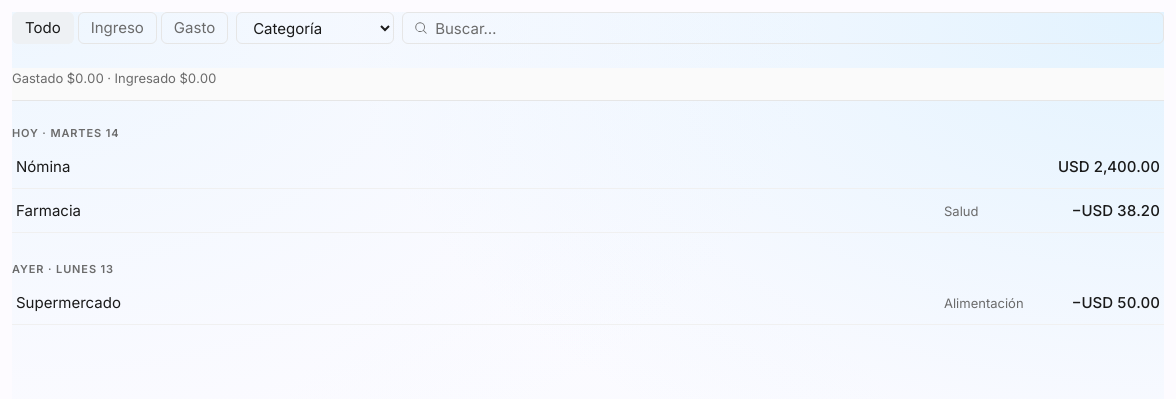
Test case: Historial — Checkpoint IV-D: navegación completa por teclado (roving tabindex) › Escape colapsa la fila expandida sobre la que está el foco
Step 1. Click the button "Farmacia Salud −USD 38.20" → coordinates (48, 210), box top-left (12, 189), bottom-right (1164, 233)
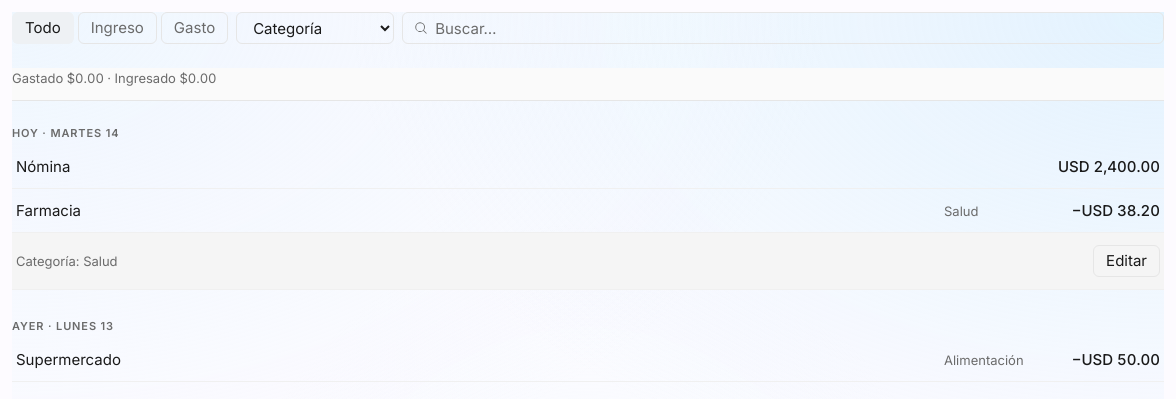
Result: the text "Categoría: Salud" is shown at top-left (16, 251), bottom-right (118, 271)
Step 2. Press Escape in the button "Farmacia Salud −USD 38.20", box top-left (12, 189), bottom-right (1164, 233)
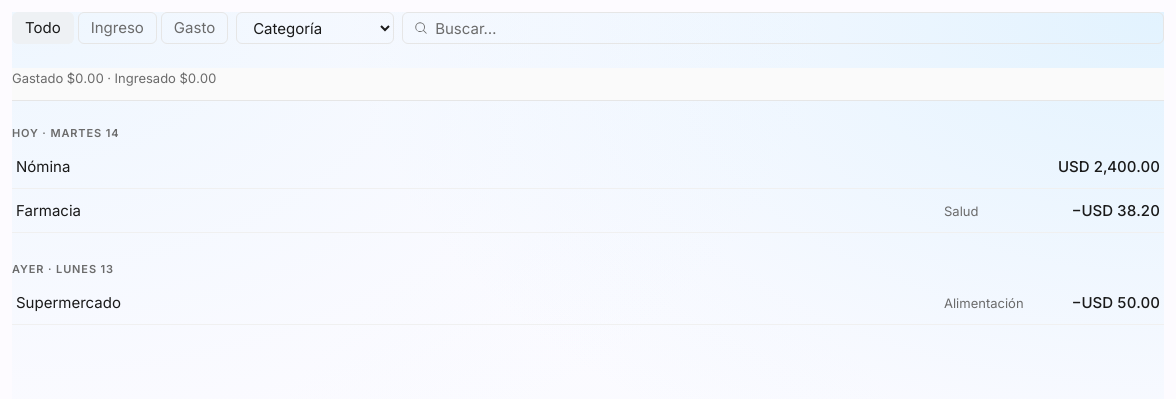
Result: the text "Categoría: Salud" is gone
